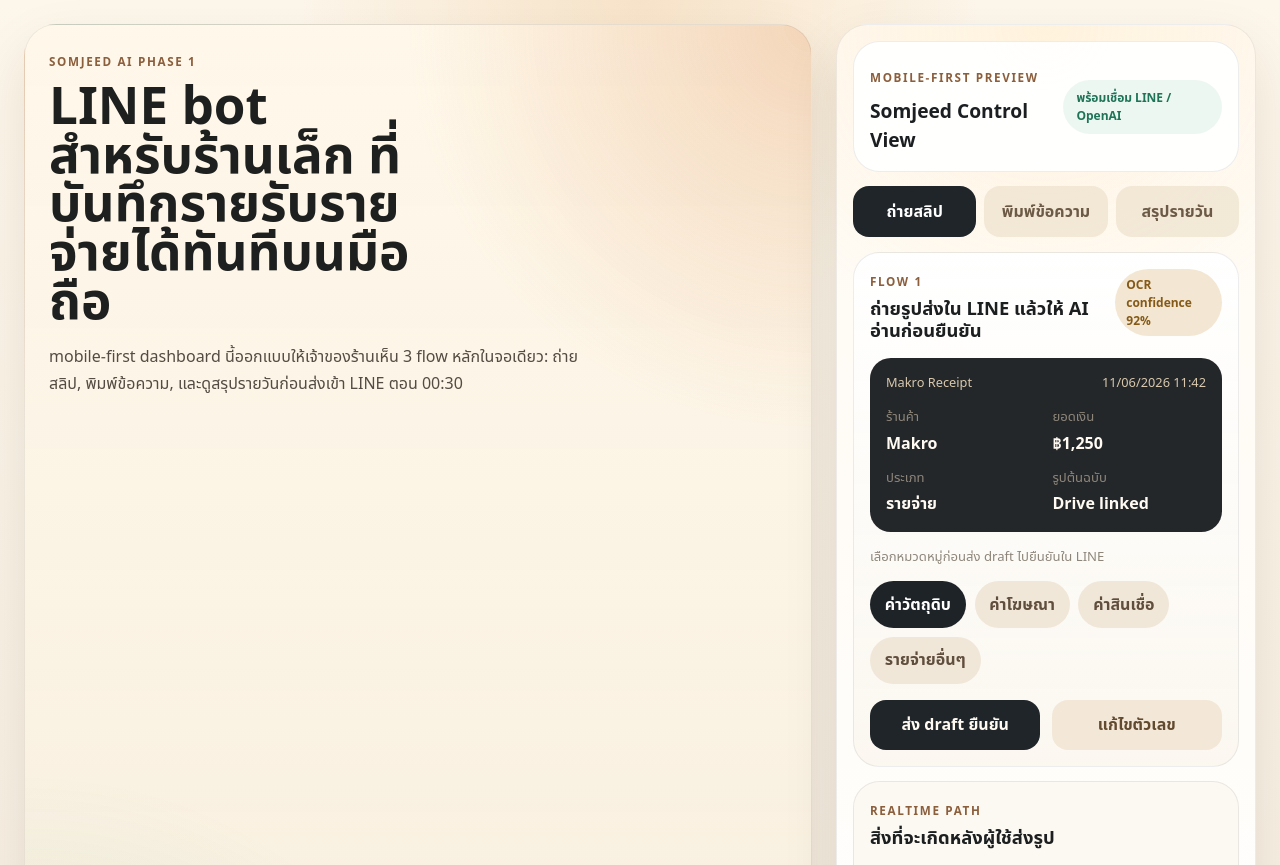
App mobile-first flow shell › switches to the daily summary flow
Click the button "สรุปรายวัน": [1177, 212] box top-left (1116, 186), bottom-right (1239, 238)
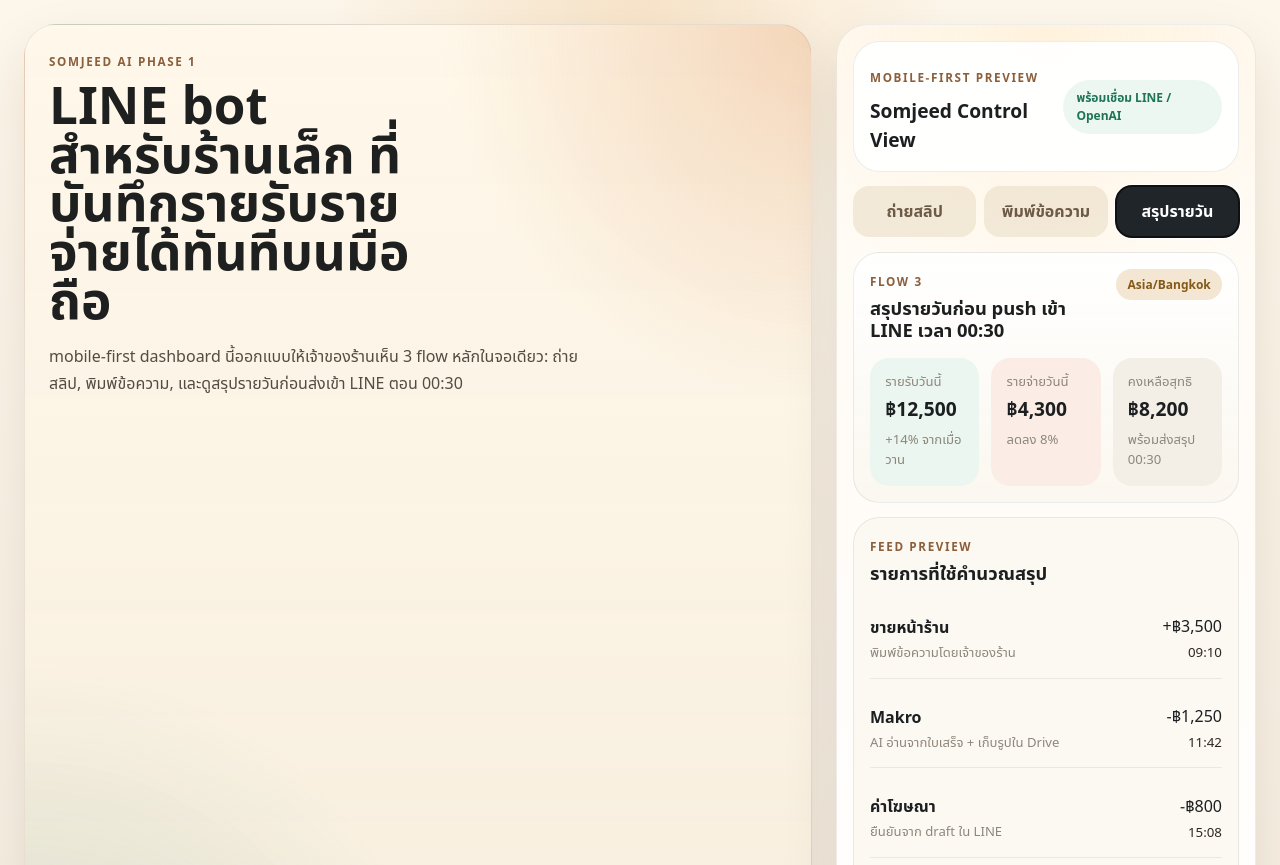
Expected: the heading "สรุปรายวันก่อน push เข้า LINE เวลา 00:30" is shown, top-left (870, 295), bottom-right (1066, 345)
Expected: the text "฿8,200" is shown, top-left (1128, 396), bottom-right (1188, 426)
